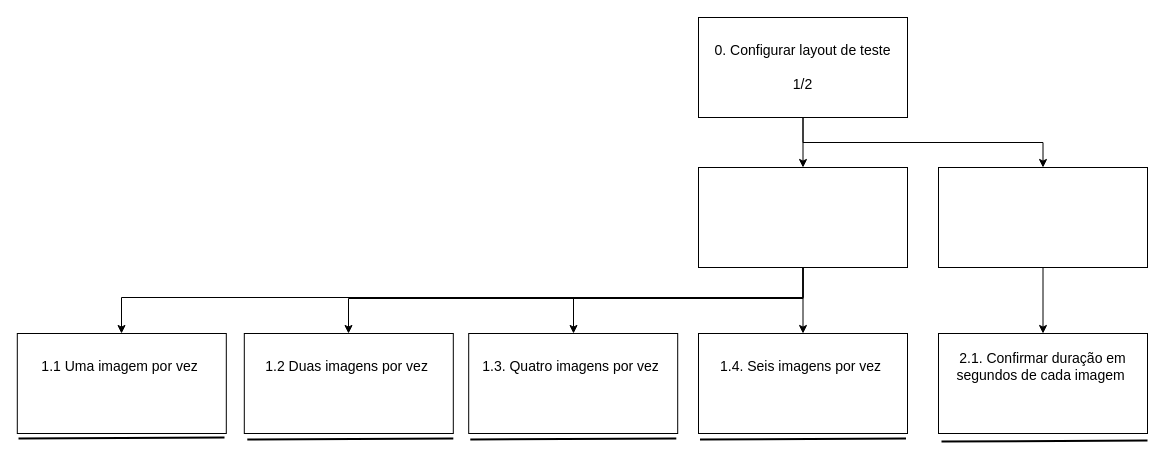
This 1167x461 diagram has some shape labels left out. Here are the shapes that lost their labels. From the top down, the box of each, then its label:
(698, 166, 908, 268): 1. Tipo de grid das imagens 1.1/1.2/1.3/1.4
(938, 166, 1148, 268): 2. Duração de cada imagem 2>2.1
